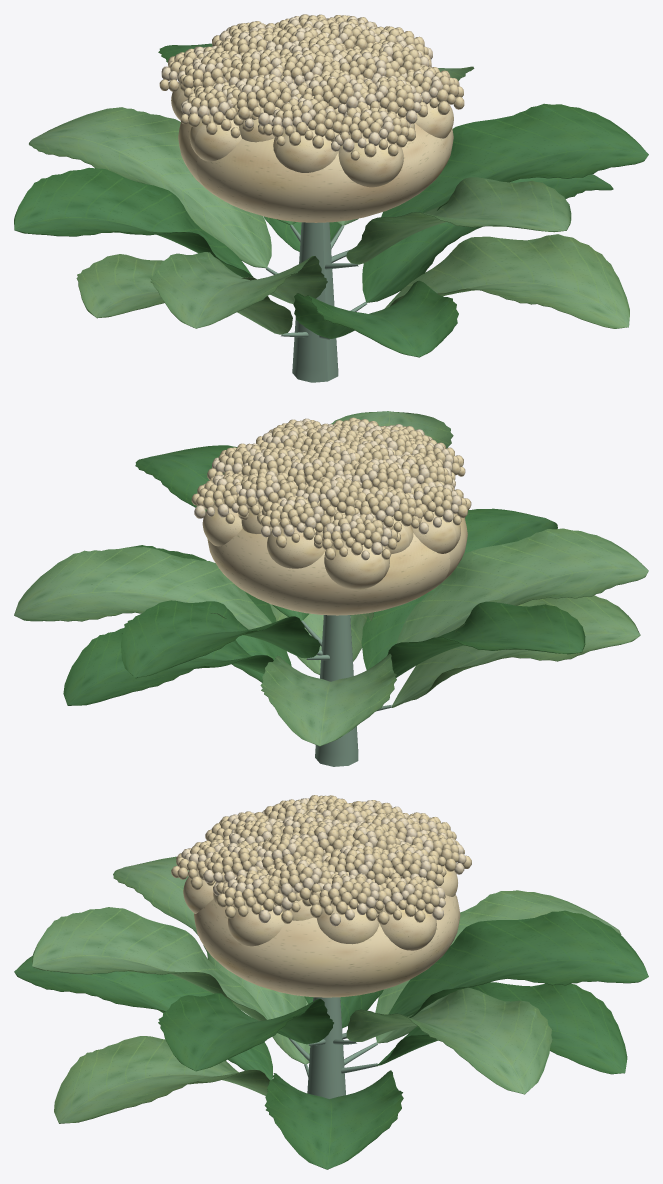
File: cauliflower-default.glb
3 renders of one model, top to bottom at view 1: azimuth 30°, elevation 25°; view 2: azimuth 150°, elevation 25°; view 3: azimuth 270°, elevation 25°, orthographic. The views are drawn at different scales.
Parts seen in each view (by area): view 1: Cauliflower · Default; view 2: Cauliflower · Default; view 3: Cauliflower · Default.
Part boxes in pixels (x1=…): Cauliflower · Default: x1=14, y1=14, x2=648, y2=382; Cauliflower · Default: x1=14, y1=411, x2=648, y2=766; Cauliflower · Default: x1=14, y1=795, x2=648, y2=1169.
Bounding box in the file's own units: 0.6261 × 0.3426 × 0.6198.
4 materials, 3 textured.
